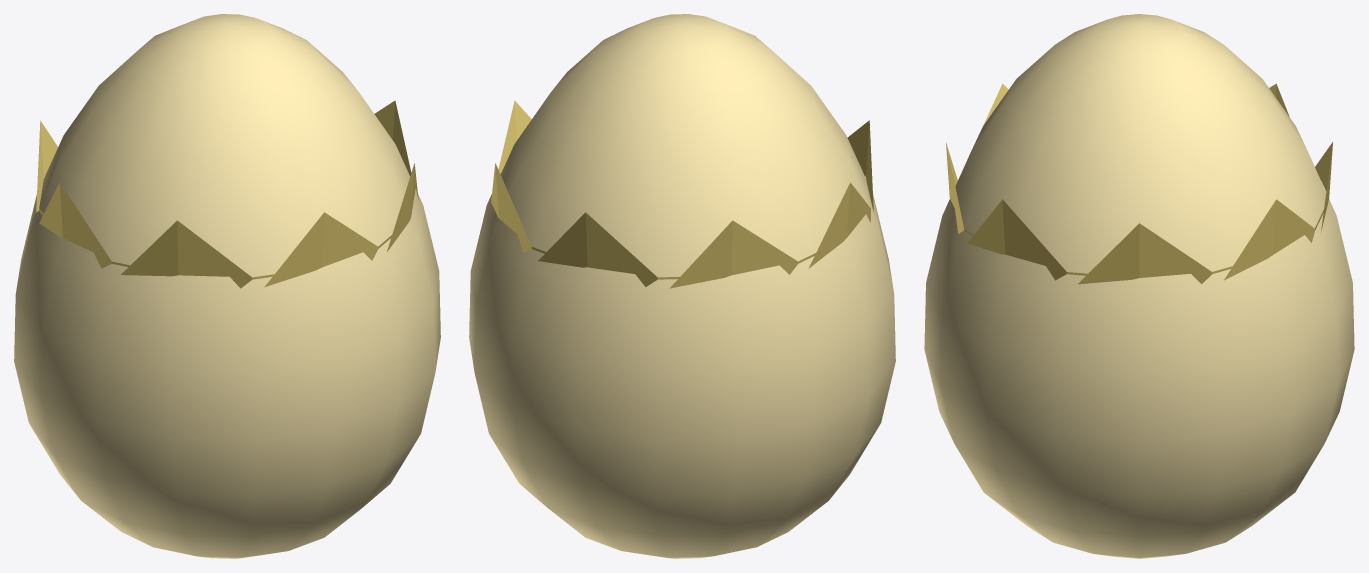
File: RoyalEgg.fbx
The picture shows the model from 3 angles, left to right: view 1: azimuth 30°, elevation 25°; view 2: azimuth 150°, elevation 25°; view 3: azimuth 270°, elevation 25°; orthographic projection.
Parts seen in each view (by area): view 1: RoyalEgg; view 2: RoyalEgg; view 3: RoyalEgg.
Part boxes in pixels (box(x1,y1,x2,y2)): RoyalEgg: box(14, 14, 440, 558); RoyalEgg: box(469, 14, 895, 558); RoyalEgg: box(924, 14, 1354, 558).
Bounding box in the file's own units: 0.6892 × 0.8965 × 0.6892.
